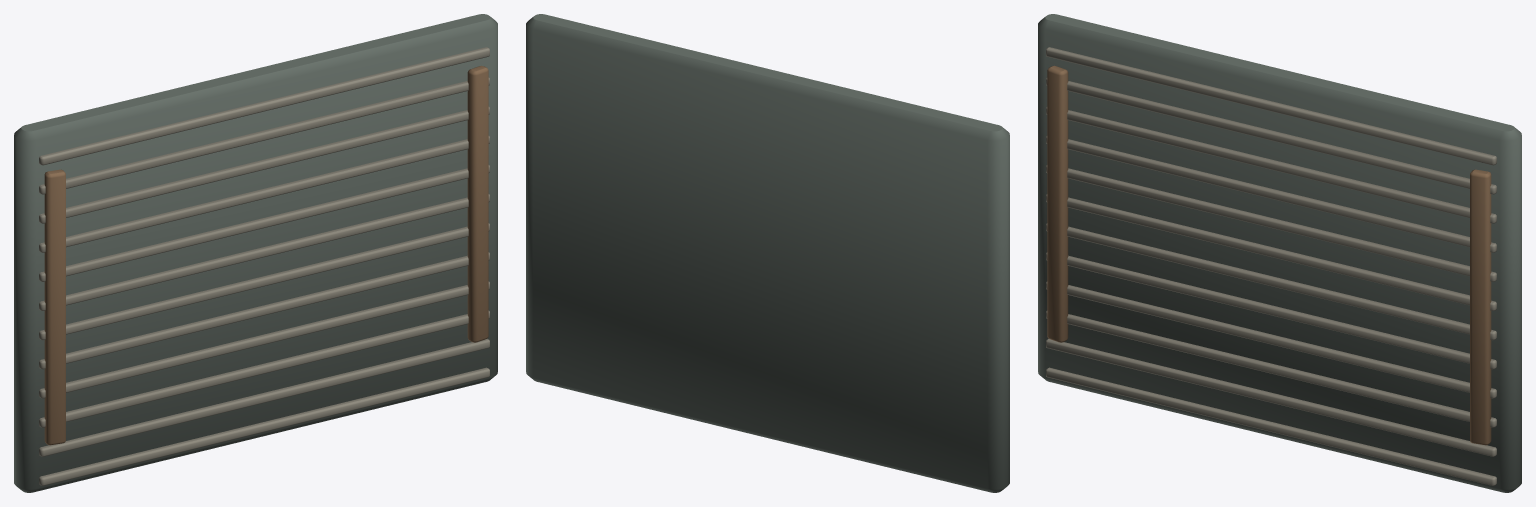
File: workshop_shutter.glb
3 views of the same model, side by side, from view 1: azimuth 30°, elevation 25°; view 2: azimuth 150°, elevation 25°; view 3: azimuth 330°, elevation 25° (orthographic).
Visible parts, largest first — view 1: Workshop_shutter; view 2: Workshop_shutter; view 3: Workshop_shutter.
Part boxes in pixels (x1,y1,x2,y2): Workshop_shutter: [14, 14, 497, 492]; Workshop_shutter: [526, 14, 1009, 492]; Workshop_shutter: [1038, 14, 1521, 492].
Size of the model in its own units: 2.72 by 1.96 by 0.2177.
